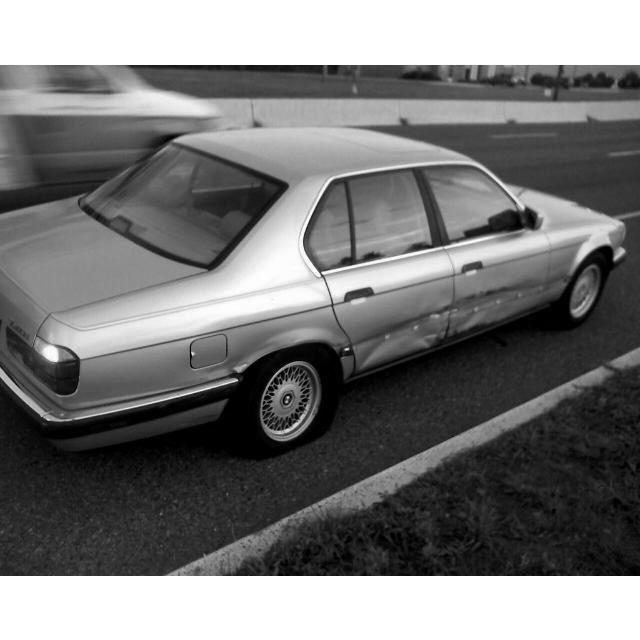doorouter-dent: (324, 249, 449, 359), (458, 247, 539, 334)
